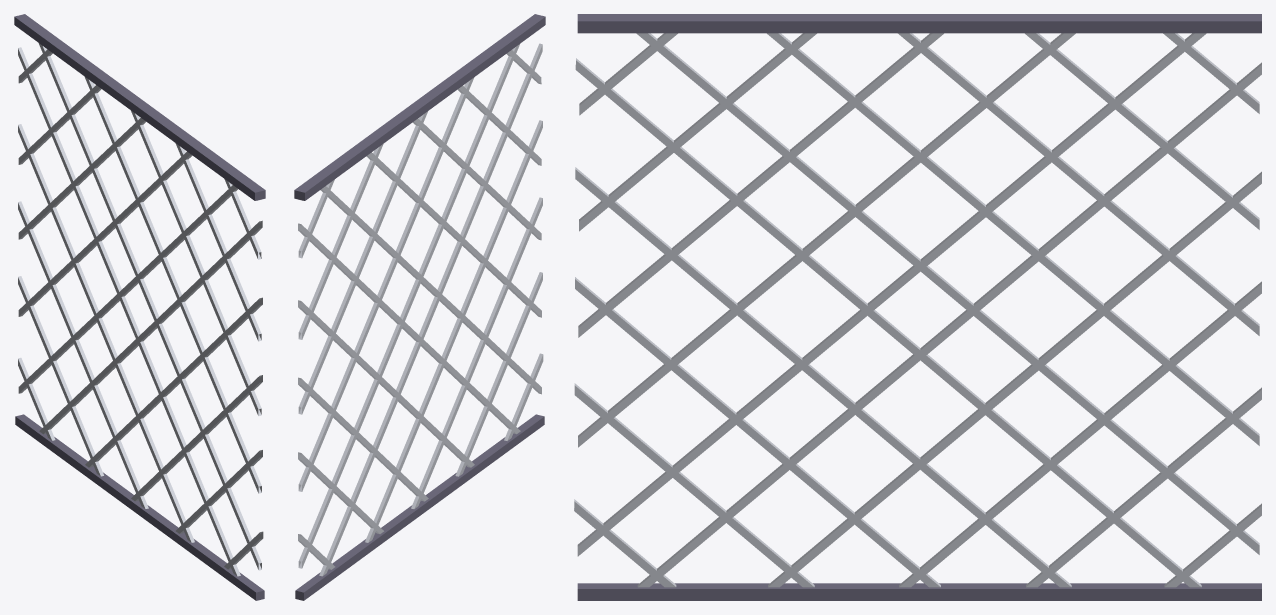
File: MetalFenceTile.fbx
The picture shows the model from 3 angles, left to right: view 1: azimuth 30°, elevation 25°; view 2: azimuth 150°, elevation 25°; view 3: azimuth 270°, elevation 25°; orthographic projection. The views are drawn at different scales.
Visible parts, largest first — view 1: MetalFenceTile; view 2: MetalFenceTile; view 3: MetalFenceTile.
Boxes of the visible parts, <box> form: MetalFenceTile: <box>14,14,265,600</box>; MetalFenceTile: <box>294,14,545,600</box>; MetalFenceTile: <box>574,14,1261,600</box>.
Size of the model in its own units: 3.86 by 140 by 151.
